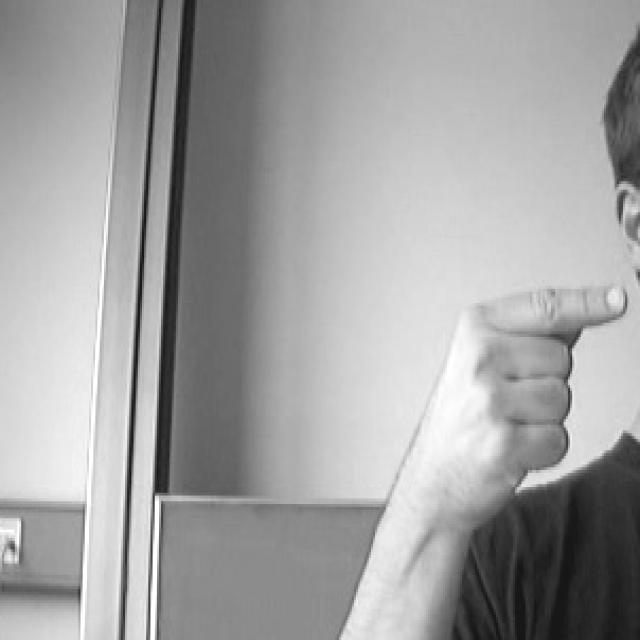G: (381, 266, 636, 537)
